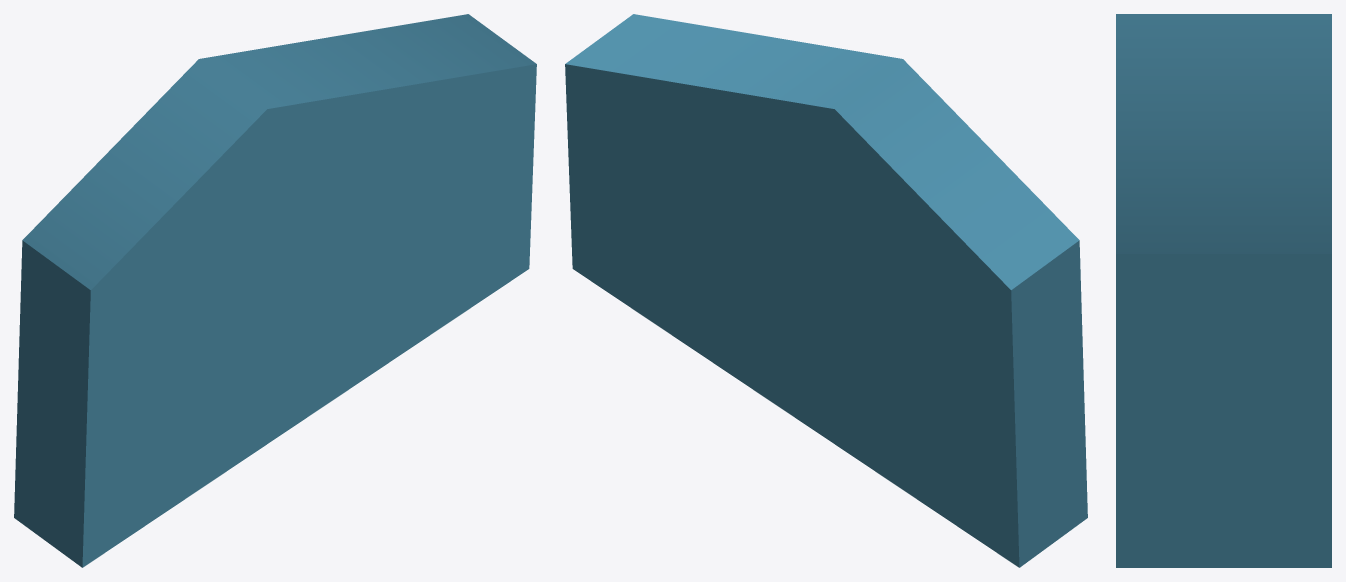
Rendered from NexusA_Trigger_31.fbx.
3 renders of one model, left to right at view 1: azimuth 30°, elevation 25°; view 2: azimuth 150°, elevation 25°; view 3: azimuth 270°, elevation 25°, orthographic. The views are drawn at different scales.
Visible parts, largest first — view 1: pCube55; view 2: pCube55; view 3: pCube55.
Boxes of the visible parts, x1,y1,x2,y2 form: pCube55: (14,14,536,567); pCube55: (565,14,1087,567); pCube55: (1116,14,1331,567).
Size of the model in its own units: 40.22 by 34.99 by 10.49.
